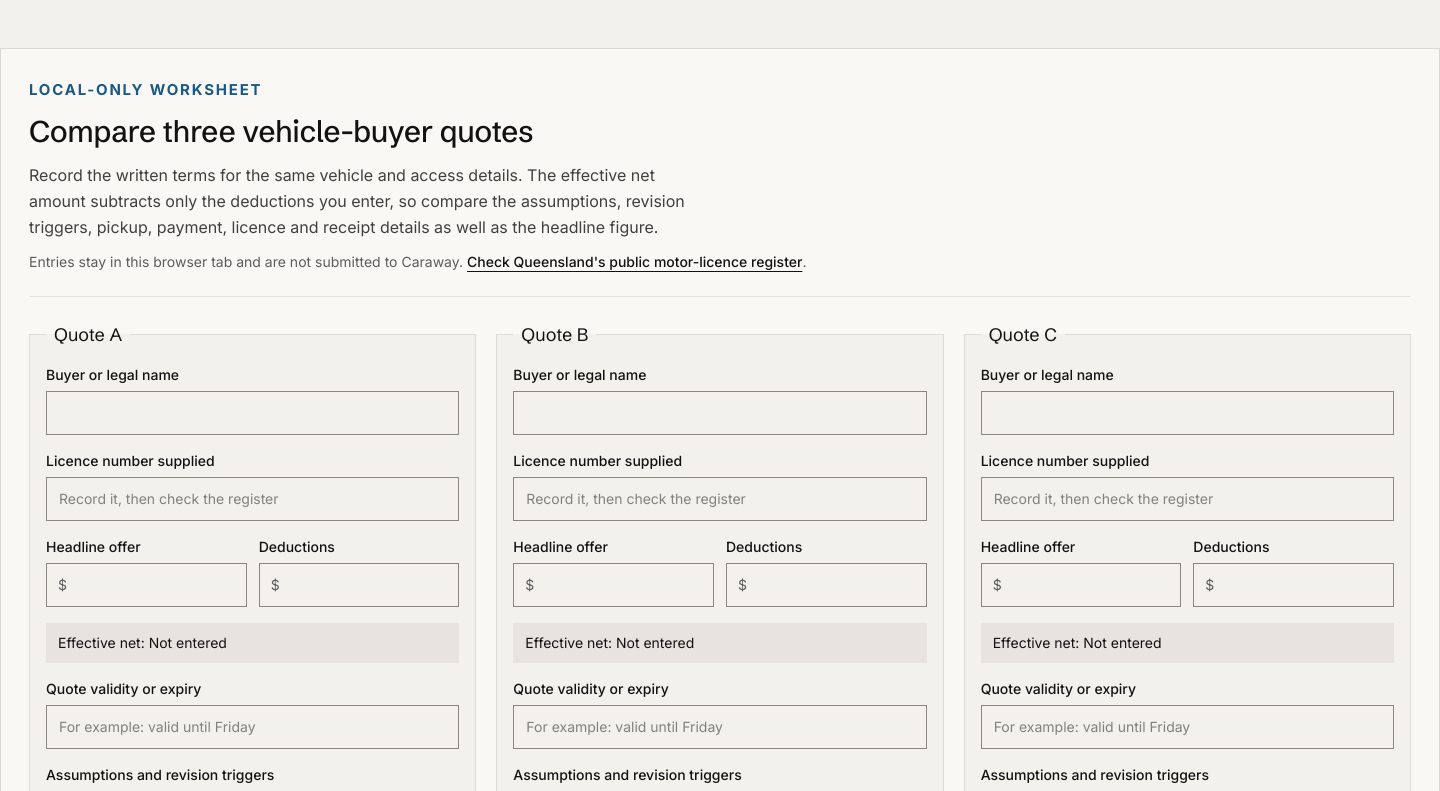
Test: QuoteComparisonWorksheet › does not treat a negative deduction as zero
Type "1000" into the 1st number field labelled "Headline offer" at (146, 584), box 46,562 -> 247,606
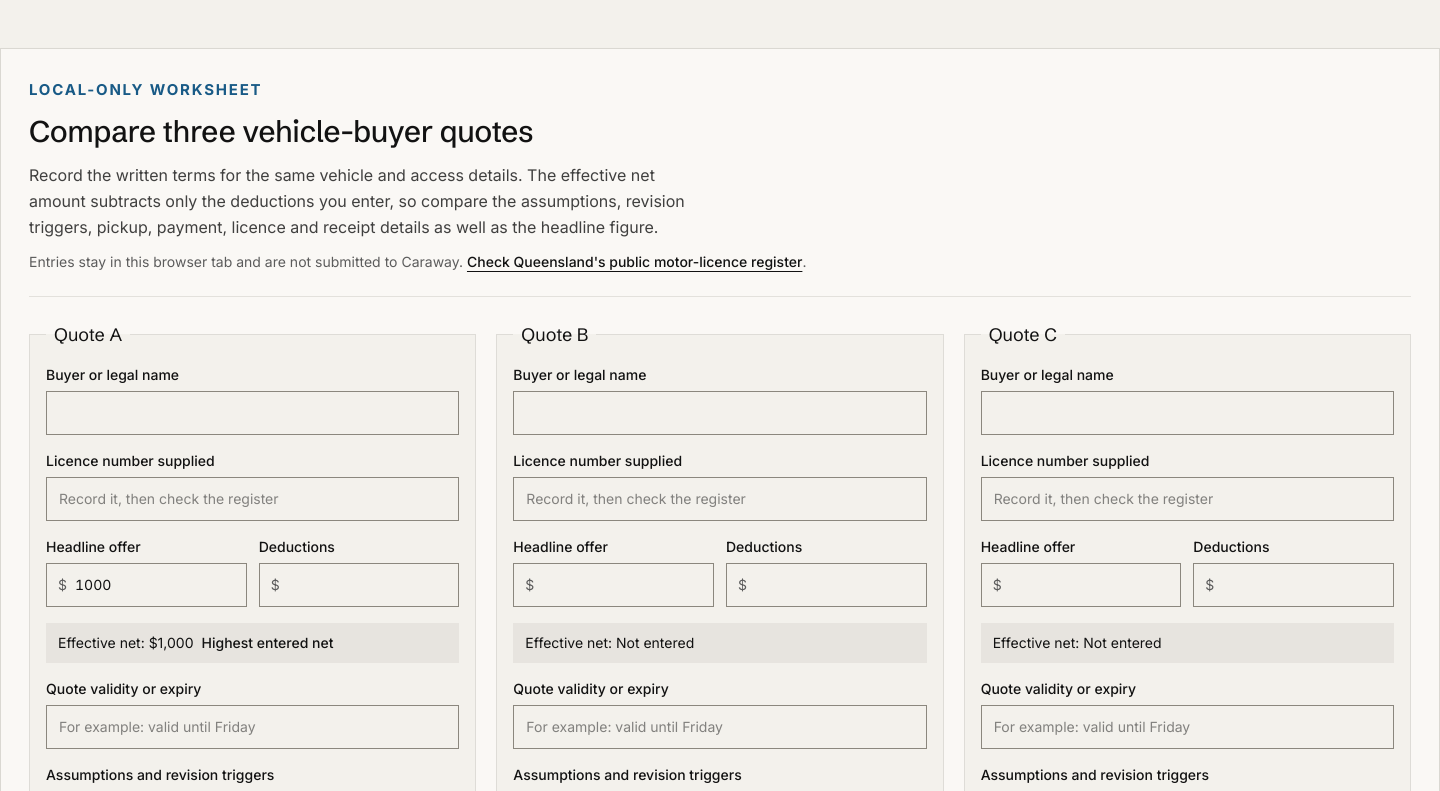
Type "-100" into the 1st number field labelled "Deductions" at (359, 584), box 259,562 -> 459,606
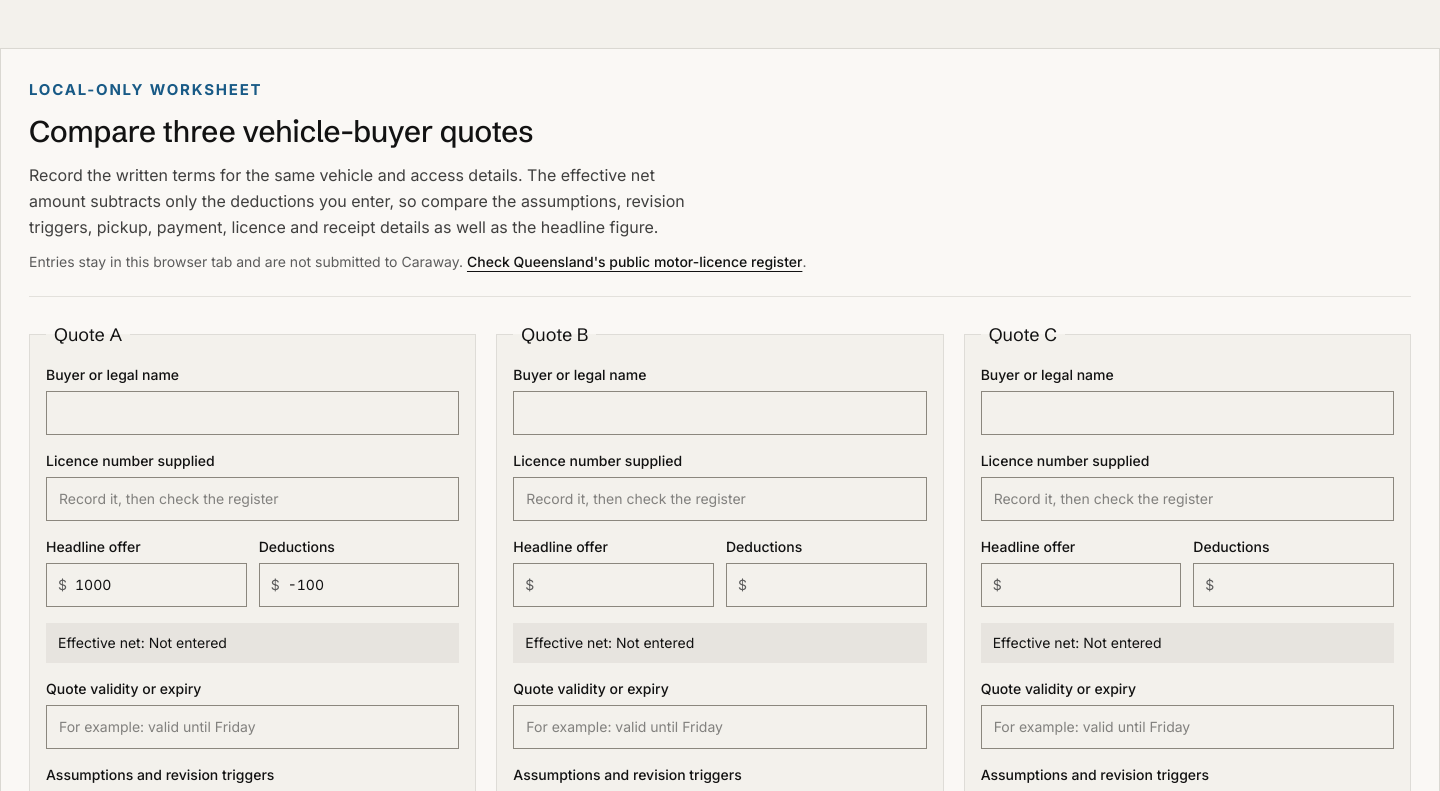
Check: the 1st text "Effective net: Not entered" is shown, box 46,622 -> 459,662
Check: the text "Highest entered net" is gone
